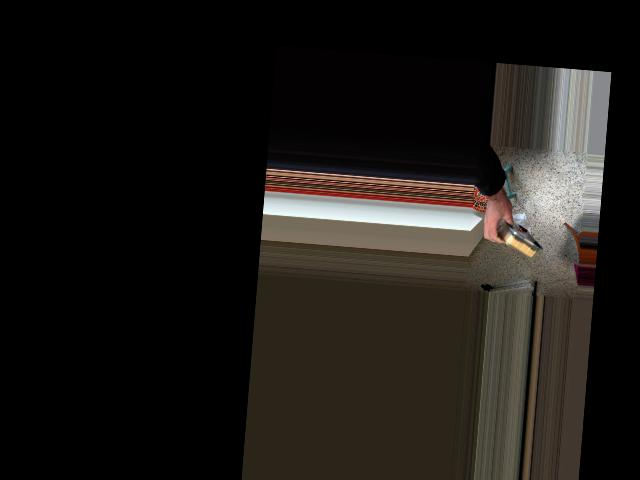cheese: (472, 206, 547, 268)
